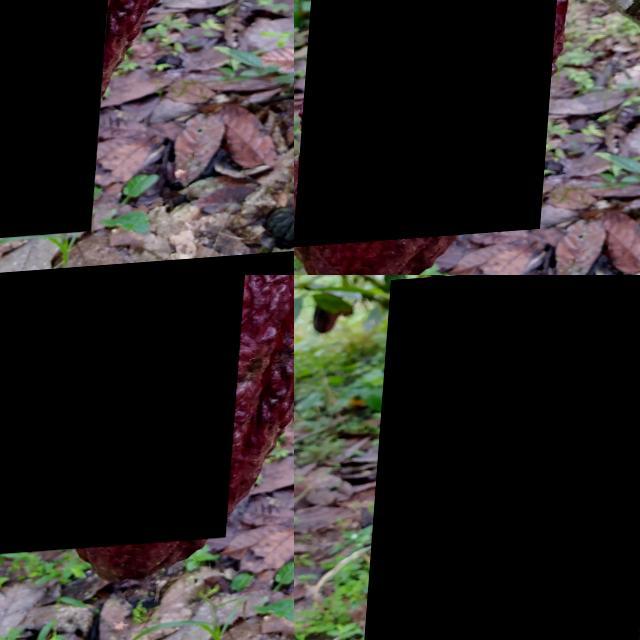Fitoftora: (0, 0, 120, 254)
Monilia: (0, 275, 257, 557), (300, 0, 565, 249)
Sana: (369, 275, 640, 640)
